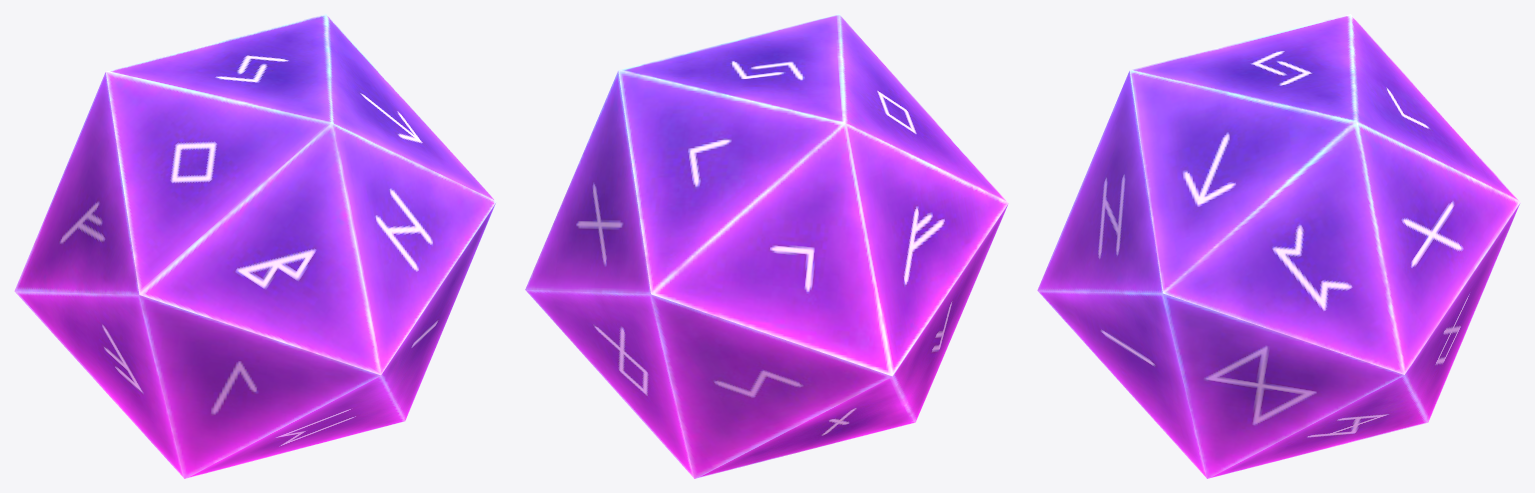
File: OKP - Berchello - D20 (Scale) (0-150).fbx
3 views of the same model, side by side, from view 1: azimuth 30°, elevation 25°; view 2: azimuth 150°, elevation 25°; view 3: azimuth 270°, elevation 25° (orthographic).
Parts seen in each view (by area): view 1: D20; view 2: D20; view 3: D20.
Part boxes in pixels (x1=…): D20: x1=14, y1=14, x2=496, y2=478; D20: x1=525, y1=14, x2=1008, y2=478; D20: x1=1037, y1=14, x2=1520, y2=478.
Size of the model in its own units: 15.49 by 14.34 by 17.68.
1 material, 1 textured.
